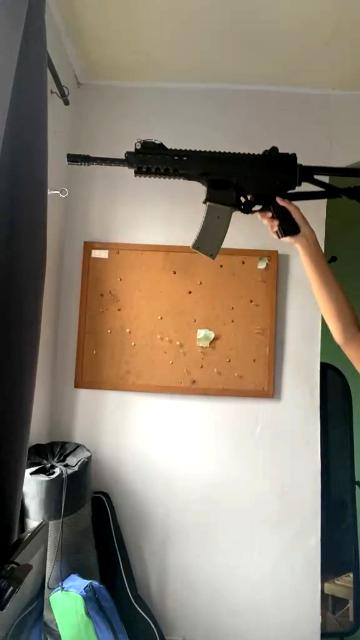rifle: (58, 126, 360, 262)
